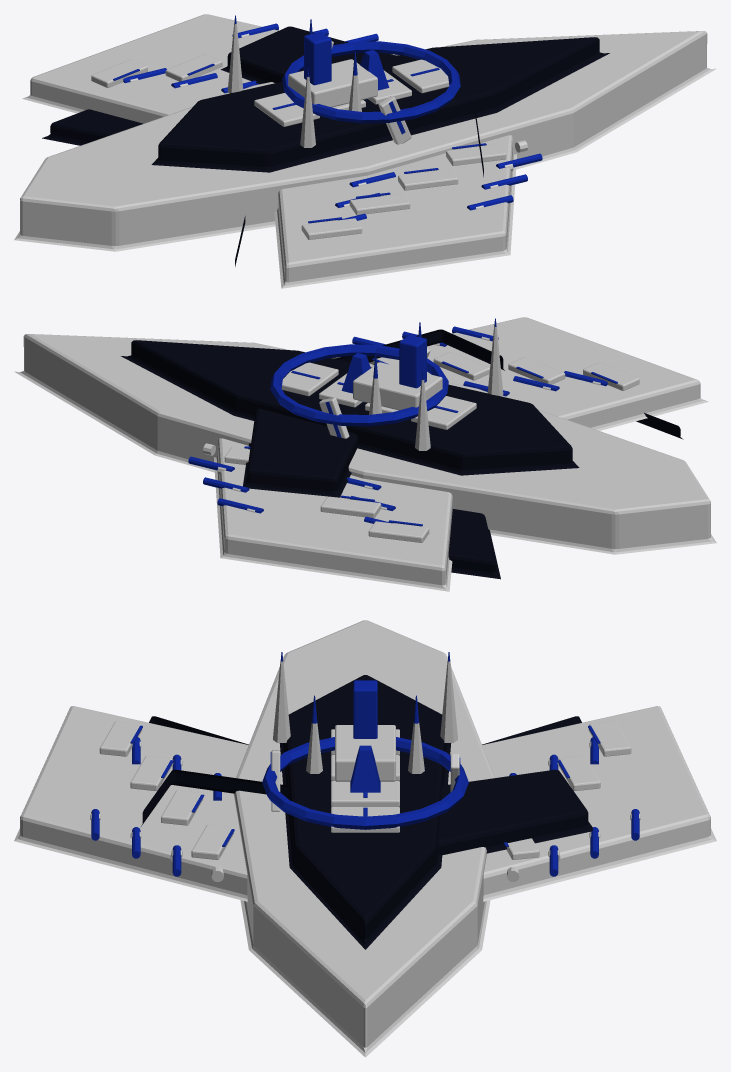
Rendered from destiny_lord_mid_pdx_source.obj.
The picture shows the model from 3 angles, top to bottom: view 1: azimuth 30°, elevation 25°; view 2: azimuth 150°, elevation 25°; view 3: azimuth 270°, elevation 25°; orthographic projection. The views are drawn at different scales.
Visible parts, largest first — view 1: DL_Main_Hull, DL_Upper_Armor, DL_Starboard_Wing, DL_Port_Wing, DL_Fate_Ring, DL_Port_Upper_Wing, DL_Bridge, DL_Port_Lower_Wing, DL_Observation_Spire, DL_Spine_Armor_2, DL_Spine_Armor_5, DL_Wing_Armor_-1_4 (+10 smaller); view 2: DL_Main_Hull, DL_Upper_Armor, DL_Port_Wing, DL_Starboard_Wing, DL_Port_Upper_Wing, DL_Fate_Ring, DL_Port_Lower_Wing, DL_Bridge, DL_Observation_Spire, DL_Spine_Armor_2, DL_Starboard_Upper_Wing, DL_Spine_Armor_5 (+11 smaller); view 3: DL_Main_Hull, DL_Starboard_Wing, DL_Upper_Armor, DL_Port_Wing, DL_Port_Upper_Wing, DL_Fate_Ring, DL_Bridge, DL_Starboard_Upper_Wing, DL_Observation_Spire, DL_Spine_Armor_3, DL_Fate_Crystal, DL_Wing_Armor_-1_2 (+8 smaller).
Part boxes in pixels (x1,y1,x2,y2): DL_Main_Hull: (14,31,716,251); DL_Upper_Armor: (151,37,609,172); DL_Starboard_Wing: (274,135,516,288); DL_Port_Wing: (22,14,278,123); DL_Fate_Ring: (282,41,460,123); DL_Port_Upper_Wing: (221,26,395,84); DL_Bridge: (288,59,377,107); DL_Port_Lower_Wing: (42,109,142,145); DL_Observation_Spire: (304,32,331,85); DL_Spine_Armor_2: (392,59,449,93); DL_Spine_Armor_5: (254,93,319,126); DL_Wing_Armor_-1_4: (301,218,362,239); DL_Main_Hull: (14,334,716,554); DL_Upper_Armor: (121,340,579,475); DL_Port_Wing: (214,438,452,591); DL_Starboard_Wing: (369,317,708,430); DL_Port_Upper_Wing: (243,408,358,497); DL_Fate_Ring: (270,344,448,426); DL_Port_Lower_Wing: (448,509,500,579); DL_Bridge: (353,362,442,410); DL_Observation_Spire: (399,335,426,388); DL_Spine_Armor_2: (281,362,338,396); DL_Starboard_Upper_Wing: (335,329,504,370); DL_Spine_Armor_5: (411,396,476,429); DL_Main_Hull: (234,620,494,1057); DL_Starboard_Wing: (14,706,248,901); DL_Upper_Armor: (279,675,451,949); DL_Port_Wing: (482,706,716,901); DL_Port_Upper_Wing: (437,769,592,855); DL_Fate_Ring: (262,737,468,829); DL_Bridge: (335,725,395,781); DL_Starboard_Upper_Wing: (141,769,288,826); DL_Observation_Spire: (353,680,377,738); DL_Spine_Armor_3: (331,781,399,806); DL_Fate_Crystal: (350,745,380,792); DL_Wing_Armor_-1_2: (161,790,203,825).
Size of the model in its own units: 91.72 by 16.85 by 69.
